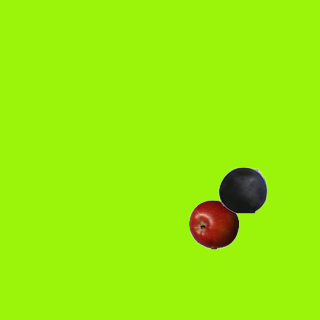Apple Braeburn: (188, 199, 238, 249)
Grape Blue: (217, 164, 267, 214)
